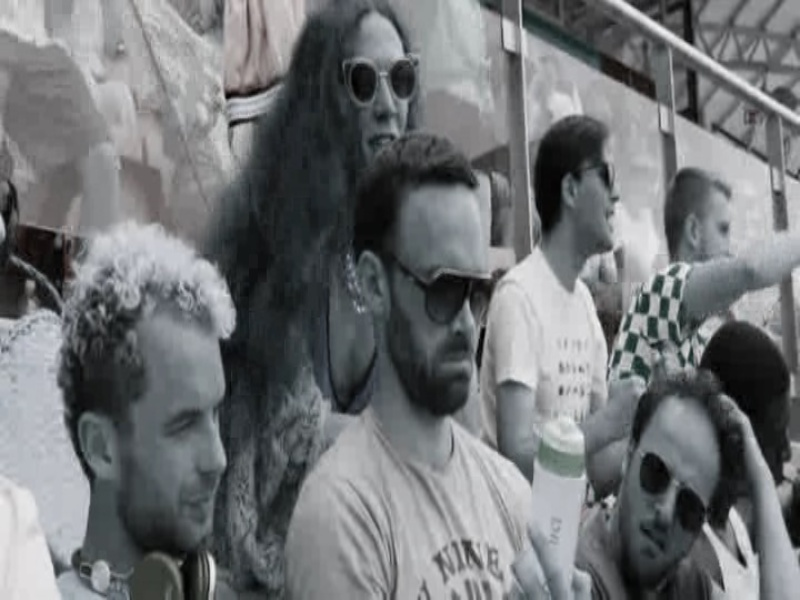TsisyArotava: (46, 223, 260, 561), (358, 133, 505, 424), (616, 382, 727, 593), (316, 1, 441, 176), (565, 112, 640, 267)
